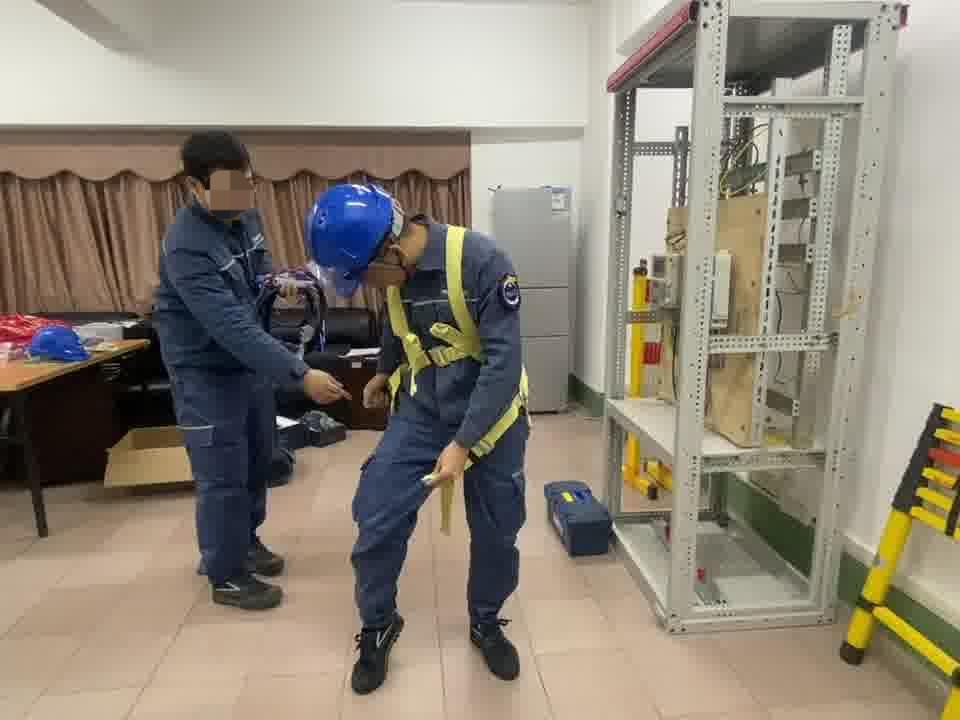halt: (308, 186, 402, 296)
inear: (376, 233, 414, 281)
noear: (186, 170, 211, 208)
unhalt: (181, 134, 258, 212)
